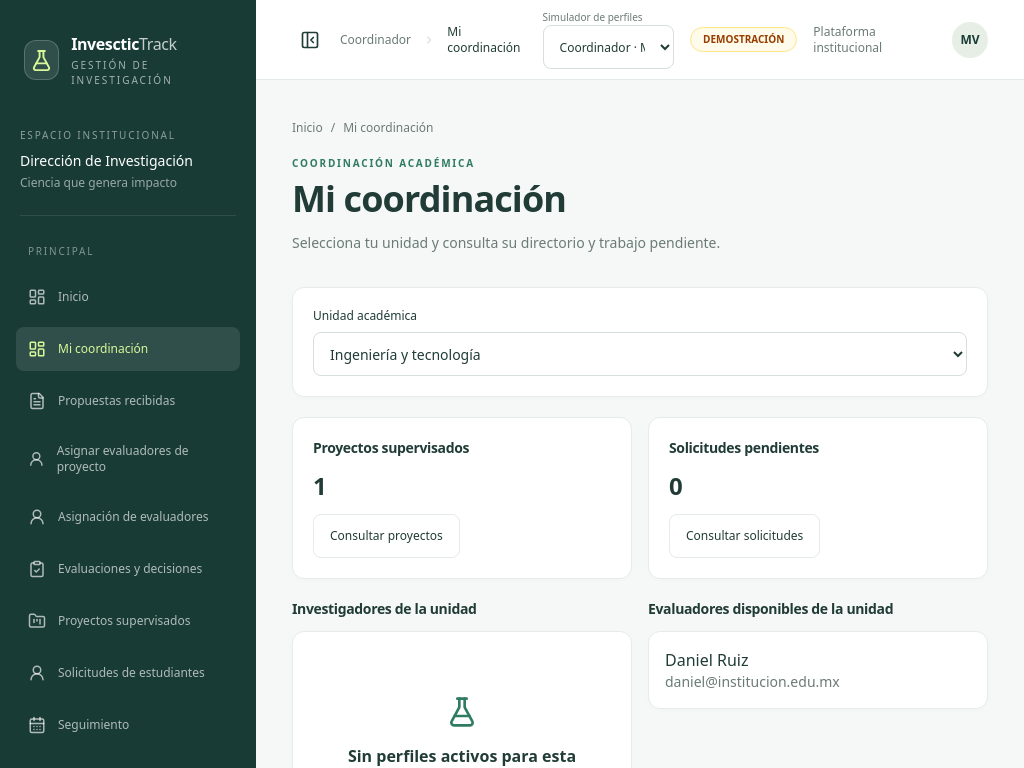
Test: muestra solo las unidades de la cuenta de coordinación y conserva el ámbito al navegar
Select "Ciencias de la salud" in the dropdown labelled "Unidad académica" at (640, 354), box x1=313 y1=332 x2=967 y2=376
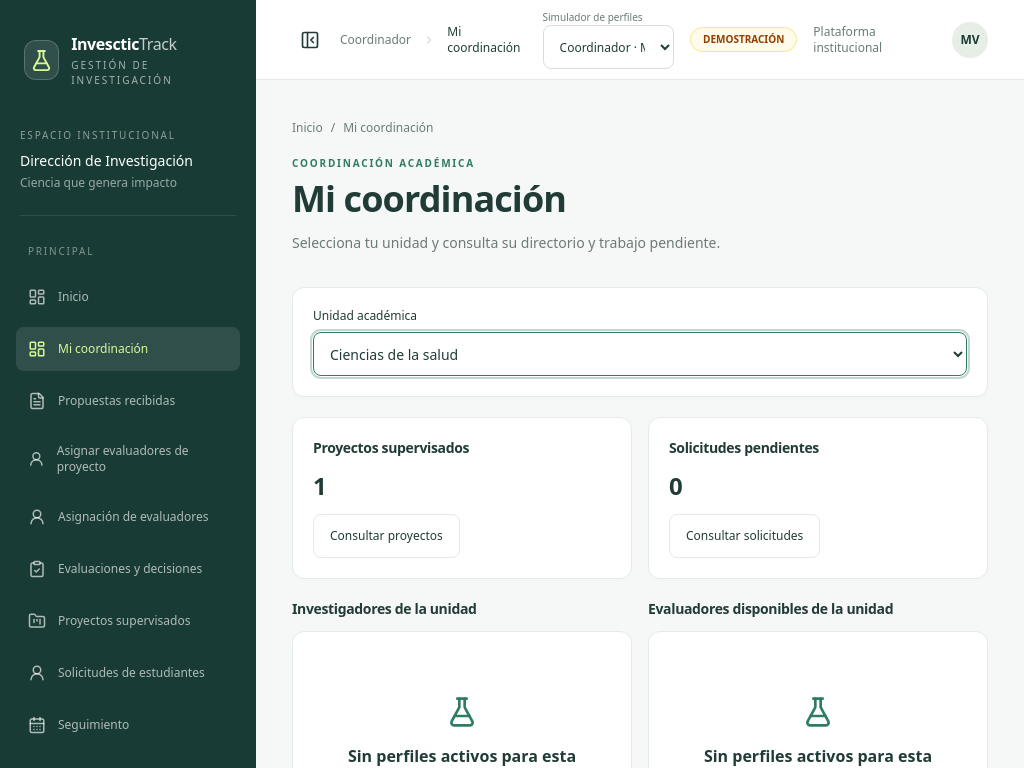
Click the link "Consultar proyectos" at (386, 536), box x1=313 y1=514 x2=460 y2=558
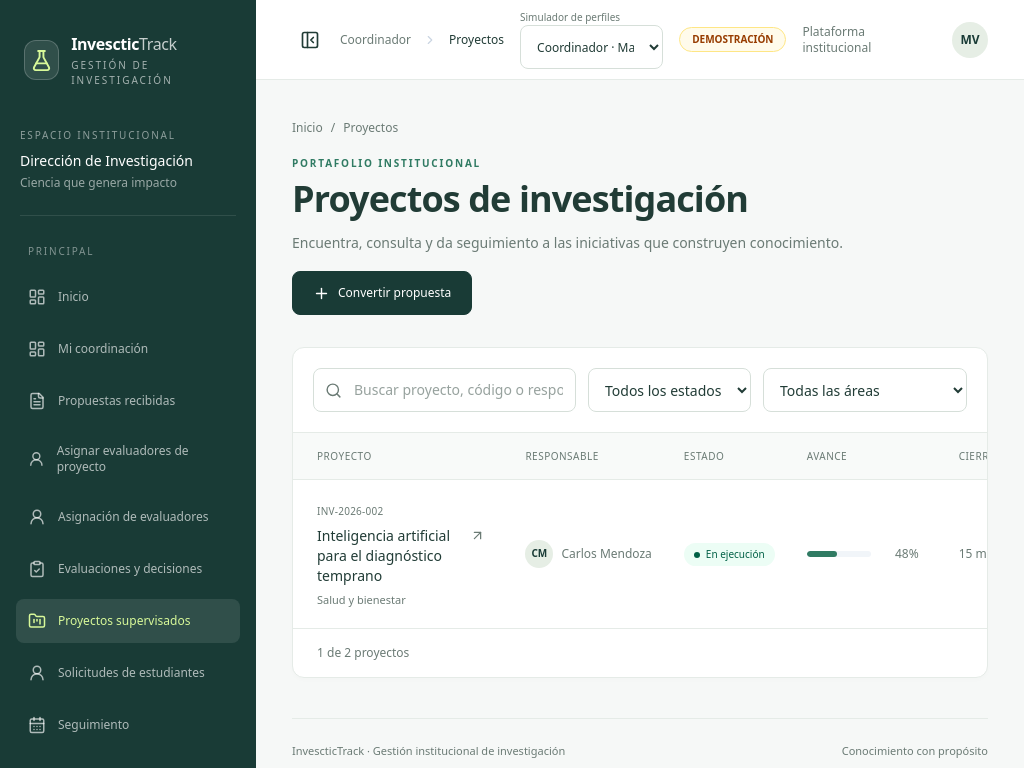
Result: the heading "Proyectos de investigación" is shown at x1=292 y1=174 x2=748 y2=223
Result: the link "Inteligencia artificial para el diagnóstico temprano" is shown at x1=317 y1=526 x2=485 y2=586
